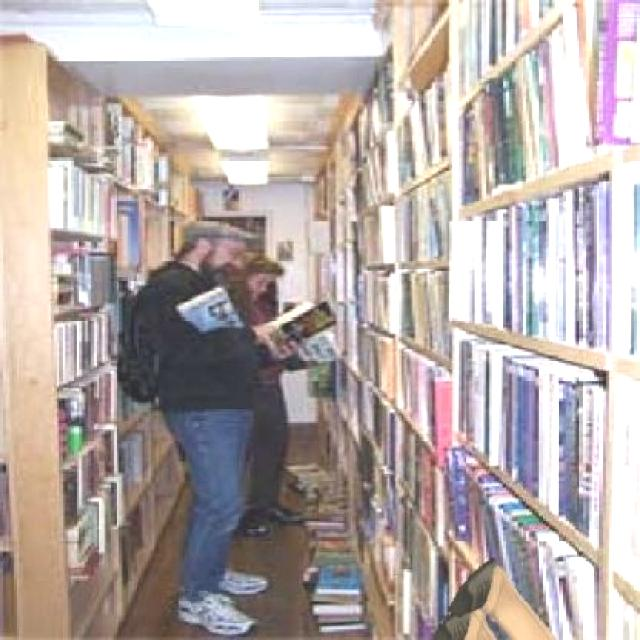Person: (426, 555, 562, 639)
